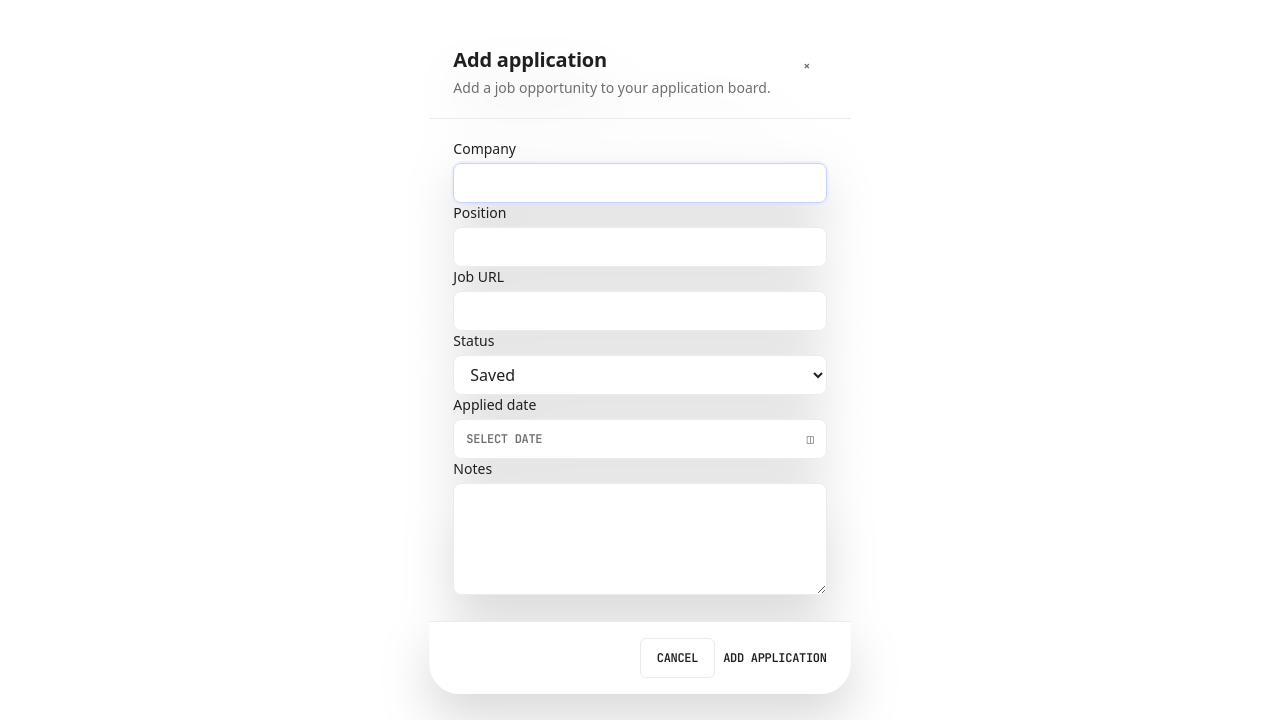
AddJobApplicationModal › opens the wheel picker and only commits a date after Done
Click the button with aria-label "Applied date" at (504, 439), box [453,419,827,459]
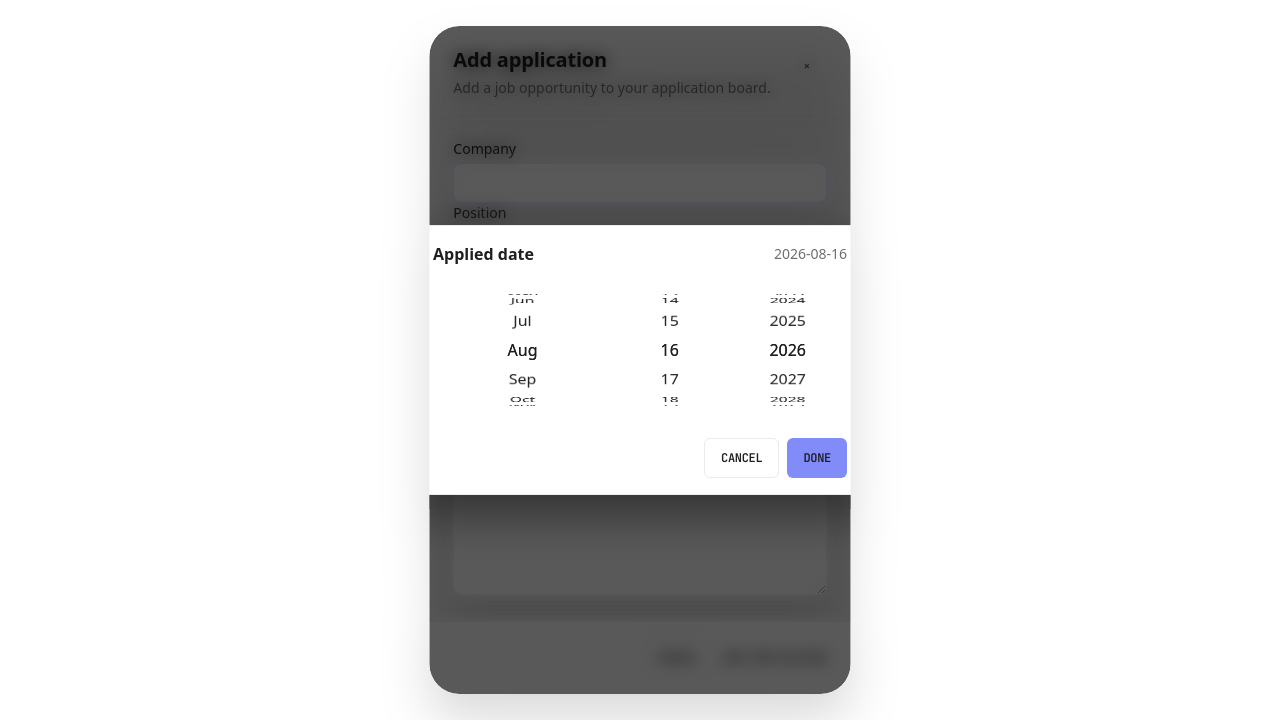
Expected: the dialog named "Applied date picker" is shown, [416,225,864,495]
Click the button "Done" at (817, 458), box [787,438,847,478]
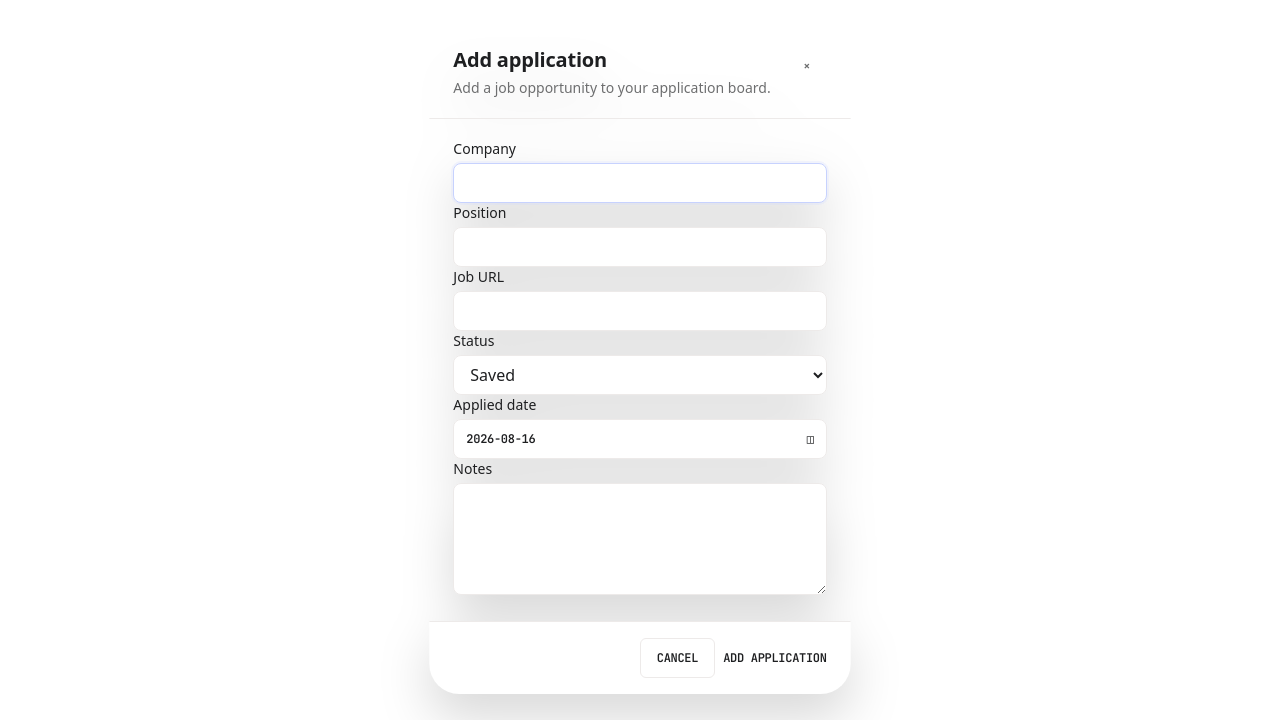
Expected: the button named "Applied date" no longer shows "Select date", [453,419,827,459]
